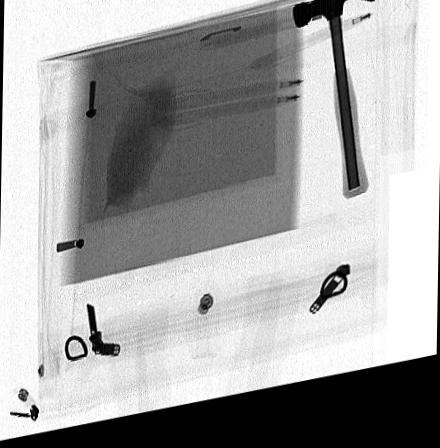Hammer: (290, 1, 375, 215)
